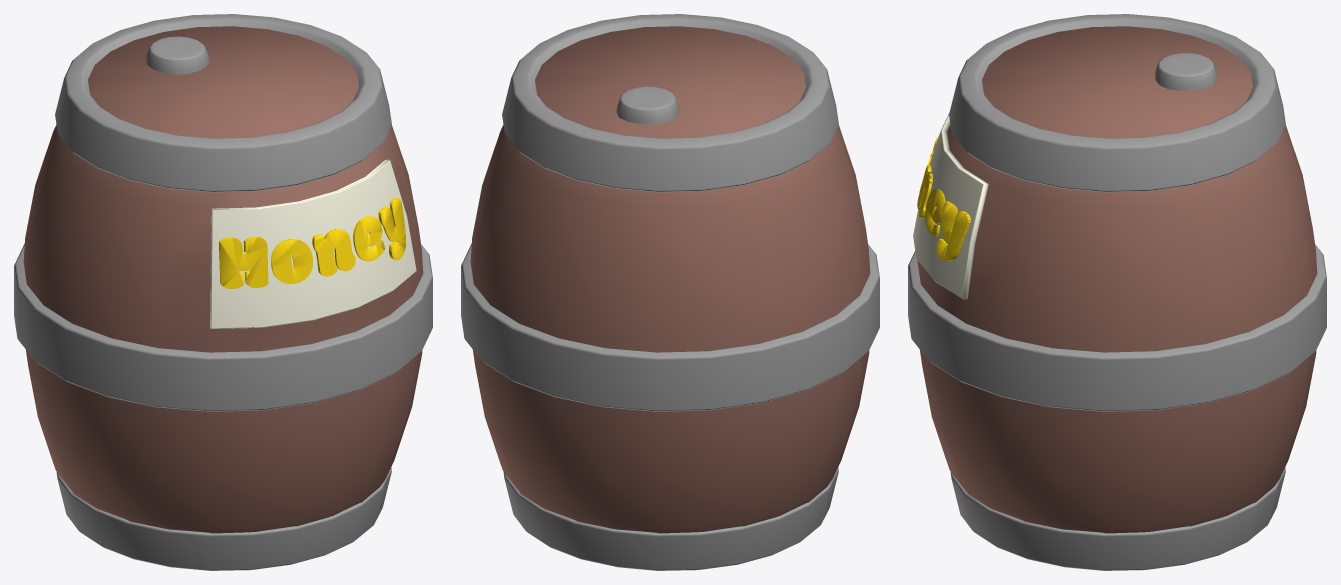
File: Farm_10_Barrel_Honey_1.glb
The picture shows the model from 3 angles, left to right: view 1: azimuth 30°, elevation 25°; view 2: azimuth 150°, elevation 25°; view 3: azimuth 270°, elevation 25°; orthographic projection.
Visible parts, largest first — view 1: Farm_10_Barrel_Honey_1; view 2: Farm_10_Barrel_Honey_1; view 3: Farm_10_Barrel_Honey_1.
Boxes of the visible parts, x1=… form: Farm_10_Barrel_Honey_1: x1=14, y1=14, x2=432, y2=570; Farm_10_Barrel_Honey_1: x1=461, y1=14, x2=879, y2=570; Farm_10_Barrel_Honey_1: x1=908, y1=14, x2=1326, y2=570.
Bounding box in the file's own units: 0.8299 × 0.9555 × 0.8299.
1 material, 1 textured.
